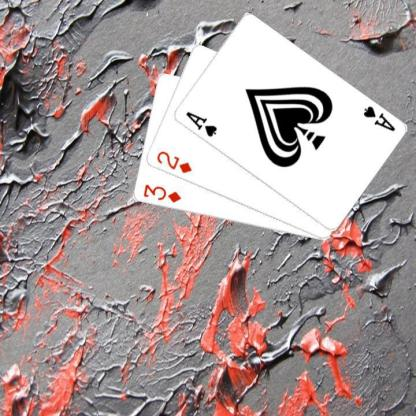2D: (154, 148, 193, 174)
3D: (140, 181, 182, 204)
AS: (182, 109, 218, 139), (360, 103, 396, 133)
